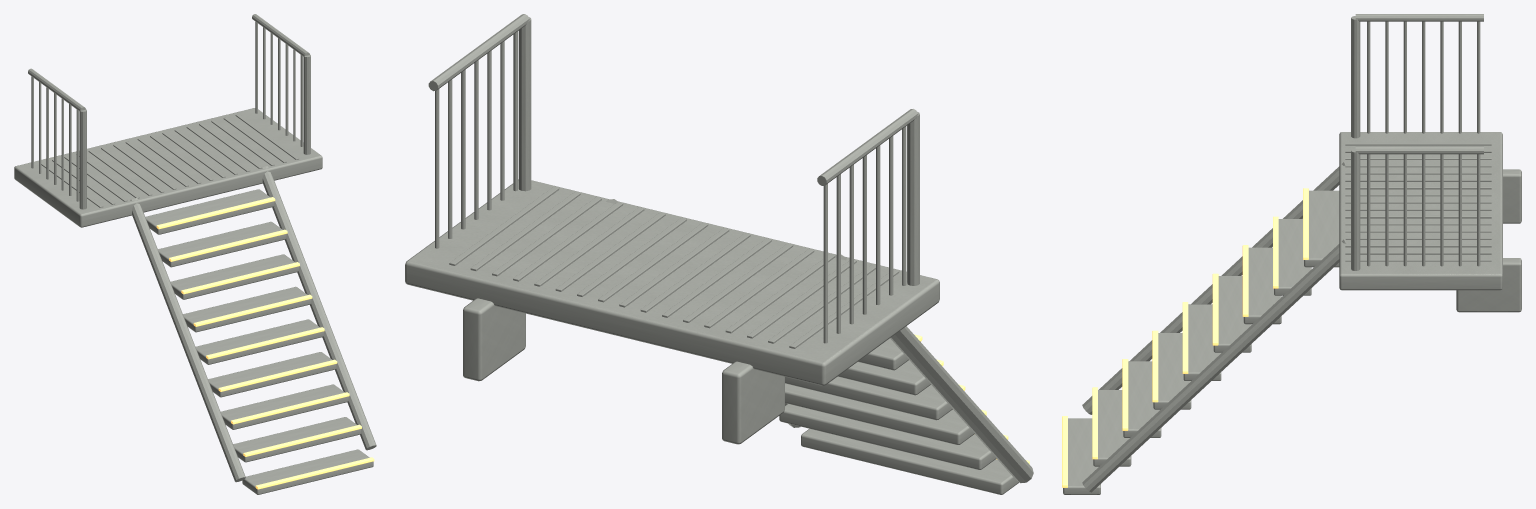
The model's file is night_market_fireescape.glb.
The picture shows the model from 3 angles, left to right: view 1: azimuth 30°, elevation 25°; view 2: azimuth 150°, elevation 25°; view 3: azimuth 270°, elevation 25°; orthographic projection. The views are drawn at different scales.
Parts seen in each view (by area): view 1: ENV_NMK_FireEscape_Landing, ENV_NMK_FireEscape_Stringer, ENV_NMK_FireEscape_Stringer.001, ENV_NMK_FireEscape_Step.008, ENV_NMK_FireEscape_Step.001, ENV_NMK_FireEscape_Step, ENV_NMK_FireEscape_Step.002, ENV_NMK_FireEscape_Step.003, ENV_NMK_FireEscape_Step.005, ENV_NMK_FireEscape_Step.007, ENV_NMK_FireEscape_Step.004, ENV_NMK_FireEscape_Step.006 (+13 smaller); view 2: ENV_NMK_FireEscape_Landing, ENV_NMK_FireEscape_Step.008, ENV_NMK_FireEscape_Step.007, ENV_NMK_FireEscape_Stringer, ENV_NMK_FireEscape_Wall_Bracket, ENV_NMK_FireEscape_Wall_Bracket.001, ENV_NMK_FireEscape_Step.006, ENV_NMK_FireEscape_Step.005, ENV_NMK_FireEscape_Post.001, ENV_NMK_FireEscape_Post, ENV_NMK_FireEscape_Step.004, ENV_NMK_FireEscape_Rail.001 (+32 smaller); view 3: ENV_NMK_FireEscape_Landing, ENV_NMK_FireEscape_Stringer.001, ENV_NMK_FireEscape_Stringer, ENV_NMK_FireEscape_Step, ENV_NMK_FireEscape_Wall_Bracket.001, ENV_NMK_FireEscape_Step.008, ENV_NMK_FireEscape_Step.002, ENV_NMK_FireEscape_Step.001, ENV_NMK_FireEscape_Step.003, ENV_NMK_FireEscape_Step.004, ENV_NMK_FireEscape_Step.005, ENV_NMK_FireEscape_Step.006 (+12 smaller).
Part boxes in pixels (x1,y1,x2,y2): ENV_NMK_FireEscape_Landing: [14, 108, 322, 227]; ENV_NMK_FireEscape_Stringer: [130, 198, 245, 482]; ENV_NMK_FireEscape_Stringer.001: [261, 166, 376, 450]; ENV_NMK_FireEscape_Step.008: [242, 449, 373, 494]; ENV_NMK_FireEscape_Step.001: [158, 221, 286, 267]; ENV_NMK_FireEscape_Step: [145, 189, 274, 234]; ENV_NMK_FireEscape_Step.002: [170, 254, 299, 299]; ENV_NMK_FireEscape_Step.003: [183, 286, 311, 332]; ENV_NMK_FireEscape_Step.005: [208, 352, 336, 397]; ENV_NMK_FireEscape_Step.007: [233, 417, 361, 462]; ENV_NMK_FireEscape_Step.004: [195, 319, 323, 364]; ENV_NMK_FireEscape_Step.006: [220, 384, 348, 429]; ENV_NMK_FireEscape_Landing: [405, 179, 939, 385]; ENV_NMK_FireEscape_Step.008: [801, 428, 1018, 494]; ENV_NMK_FireEscape_Step.007: [779, 404, 996, 469]; ENV_NMK_FireEscape_Stringer: [835, 254, 1033, 483]; ENV_NMK_FireEscape_Wall_Bracket: [722, 361, 784, 444]; ENV_NMK_FireEscape_Wall_Bracket.001: [463, 298, 525, 381]; ENV_NMK_FireEscape_Step.006: [785, 383, 974, 444]; ENV_NMK_FireEscape_Step.005: [785, 376, 952, 420]; ENV_NMK_FireEscape_Post.001: [518, 17, 531, 191]; ENV_NMK_FireEscape_Post: [907, 112, 919, 285]; ENV_NMK_FireEscape_Step.004: [838, 360, 930, 395]; ENV_NMK_FireEscape_Rail.001: [428, 14, 529, 91]; ENV_NMK_FireEscape_Landing: [1339, 132, 1502, 290]; ENV_NMK_FireEscape_Stringer.001: [1082, 239, 1346, 492]; ENV_NMK_FireEscape_Stringer: [1082, 161, 1346, 414]; ENV_NMK_FireEscape_Step: [1304, 190, 1339, 267]; ENV_NMK_FireEscape_Wall_Bracket.001: [1456, 258, 1521, 312]; ENV_NMK_FireEscape_Step.008: [1063, 418, 1100, 494]; ENV_NMK_FireEscape_Step.002: [1243, 247, 1281, 324]; ENV_NMK_FireEscape_Step.001: [1274, 219, 1311, 295]; ENV_NMK_FireEscape_Step.003: [1213, 276, 1251, 352]; ENV_NMK_FireEscape_Step.004: [1183, 304, 1221, 380]; ENV_NMK_FireEscape_Step.005: [1153, 333, 1191, 409]; ENV_NMK_FireEscape_Step.006: [1123, 361, 1161, 437].
Size of what is drawn, in the model's own units: 2.6 by 3.21 by 3.51.
3 materials, 3 textured.
